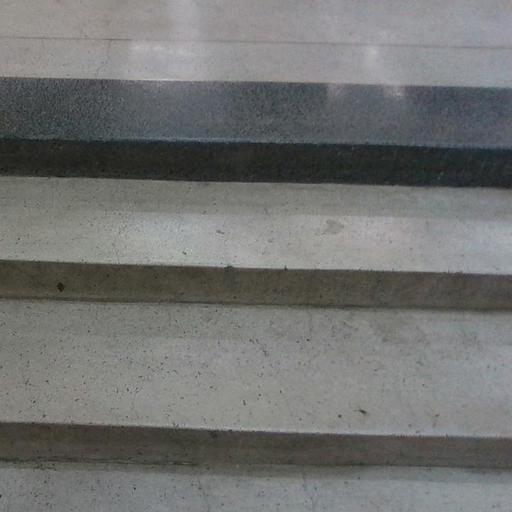stairs: (0, 79, 511, 511)
